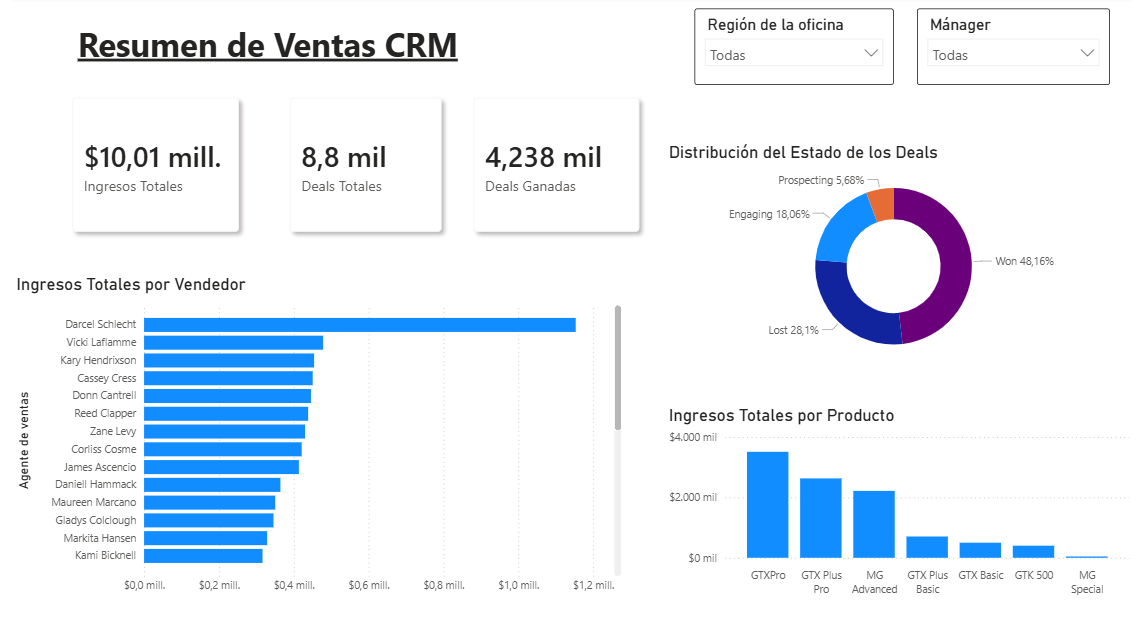

The page's visual inventory and layout, read from the dashboard file:
{"tool":"powerbi","page":{"name":"Página 1","canvas":[1280,720],"ordinal":0},"visuals":[{"type":"clusteredBarChart","title":"Ingresos Totales por Vendedor","fields":{"Category":["sales_pipeline.sales_agent"],"Y":["Sum(sales_pipeline.close_value)"]},"box":[0,318.6,700,372.9],"z":0},{"type":"columnChart","title":"Ingresos Totales por Producto","fields":{"Category":["sales_pipeline.product"],"Y":["Sum(sales_pipeline.close_value)"]},"box":[744.3,467.1,535.7,224.3],"z":1000},{"type":"cardVisual","fields":{"Data":["Sum(sales_pipeline.close_value)"]},"box":[40,87.1,248.6,211.4],"z":2000},{"type":"cardVisual","fields":{"Data":["CountNonNull(sales_pipeline.opportunity_id)"]},"box":[288.6,87.1,231.4,211.4],"z":3000},{"type":"cardVisual","fields":{"Data":["CountNonNull(sales_pipeline.opportunity_id)"]},"box":[497.1,87.1,247.1,211.4],"z":4000},{"type":"donutChart","title":"Distribución del Estado de los Deals","fields":{"Category":["sales_pipeline.deal_stage"],"Y":["CountNonNull(sales_pipeline.opportunity_id)"]},"box":[744.3,167.1,522.9,261.4],"z":5000},{"type":"textbox","box":[70,24.3,674.3,62.9],"z":6000},{"type":"slicer","fields":{"Values":["sales_teams.regional_office"]},"box":[778.6,14.3,227.1,87.1],"z":7000},{"type":"slicer","fields":{"Values":["sales_teams.manager"]},"box":[1031.4,14.3,220,87.1],"z":8000}]}

Visuals, with their boxes in screenshot pixels (x1, y1, x2, y2), scaled from the page's 1280x720 canvas onto the 1146x635 screenshot:
"Ingresos Totales por Vendedor" clusteredBarChart: <region>0, 281, 627, 610</region>
"Ingresos Totales por Producto" columnChart: <region>666, 412, 1145, 610</region>
cardVisual - Sum(sales_pipeline.close_value): <region>36, 77, 258, 263</region>
cardVisual - CountNonNull(sales_pipeline.opportunity_id): <region>258, 77, 466, 263</region>
cardVisual - CountNonNull(sales_pipeline.opportunity_id): <region>445, 77, 666, 263</region>
"Distribución del Estado de los Deals" donutChart: <region>666, 147, 1135, 378</region>
textbox: <region>63, 21, 666, 77</region>
slicer - sales_teams.regional_office: <region>697, 13, 900, 89</region>
slicer - sales_teams.manager: <region>923, 13, 1120, 89</region>
